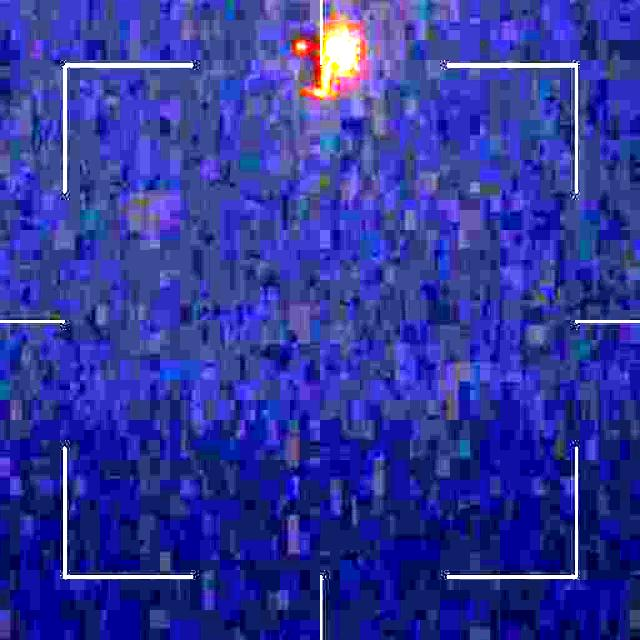bird: (276, 16, 362, 95)
